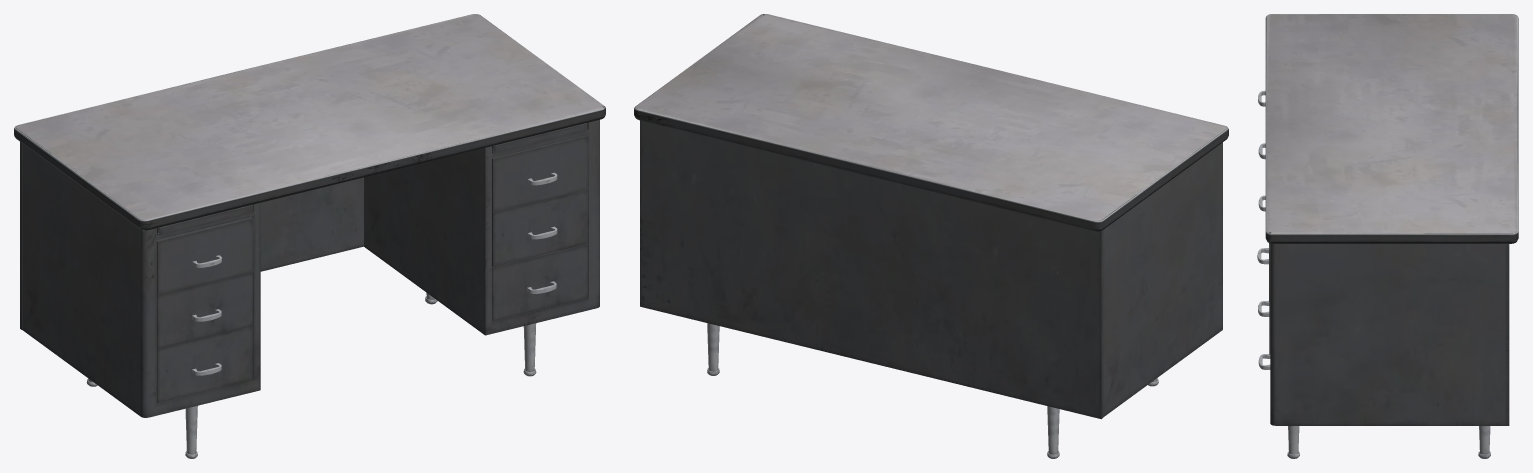
The model's file is metal_office_desk_lod1.glb.
3 renders of one model, left to right at view 1: azimuth 30°, elevation 25°; view 2: azimuth 150°, elevation 25°; view 3: azimuth 270°, elevation 25°, orthographic. The views are drawn at different scales.
Parts seen in each view (by area): view 1: metal_office_desk, metal_office_desk_drawer_04, metal_office_desk_drawer_01, metal_office_desk_drawer_03, metal_office_desk_drawer_02, metal_office_desk_drawer_06, metal_office_desk_drawer_05, metal_office_desk_tray_01, metal_office_desk_tray_02; view 2: metal_office_desk; view 3: metal_office_desk.
Part boxes in pixels (x1,y1,x2,y2): metal_office_desk: (14,14,605,458); metal_office_desk_drawer_04: (157,217,253,295); metal_office_desk_drawer_01: (492,135,588,212); metal_office_desk_drawer_03: (492,244,588,321); metal_office_desk_drawer_02: (492,189,588,266); metal_office_desk_drawer_06: (157,326,253,403); metal_office_desk_drawer_05: (157,272,253,349); metal_office_desk_tray_01: (157,204,252,235); metal_office_desk_tray_02: (492,122,587,153); metal_office_desk: (634,14,1228,458); metal_office_desk: (1265,14,1518,458).
Size of the model in its own units: 1.4 by 0.7499 by 0.7.
1 material, 1 textured.
